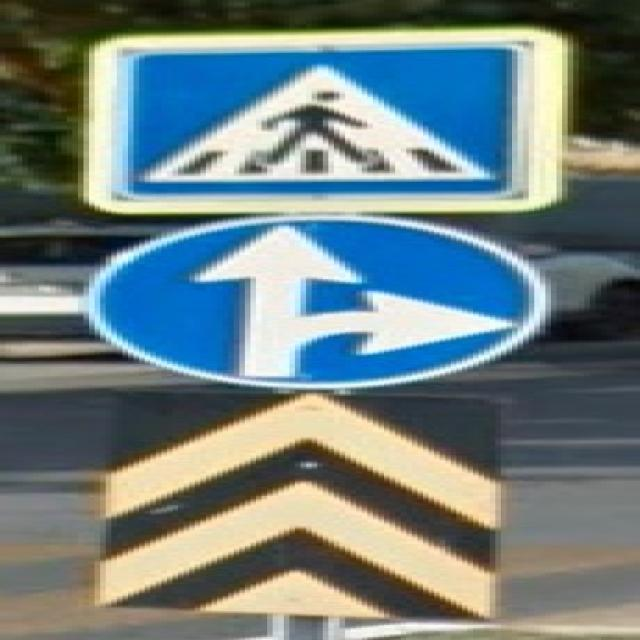Straight or Right: (98, 219, 555, 386)
